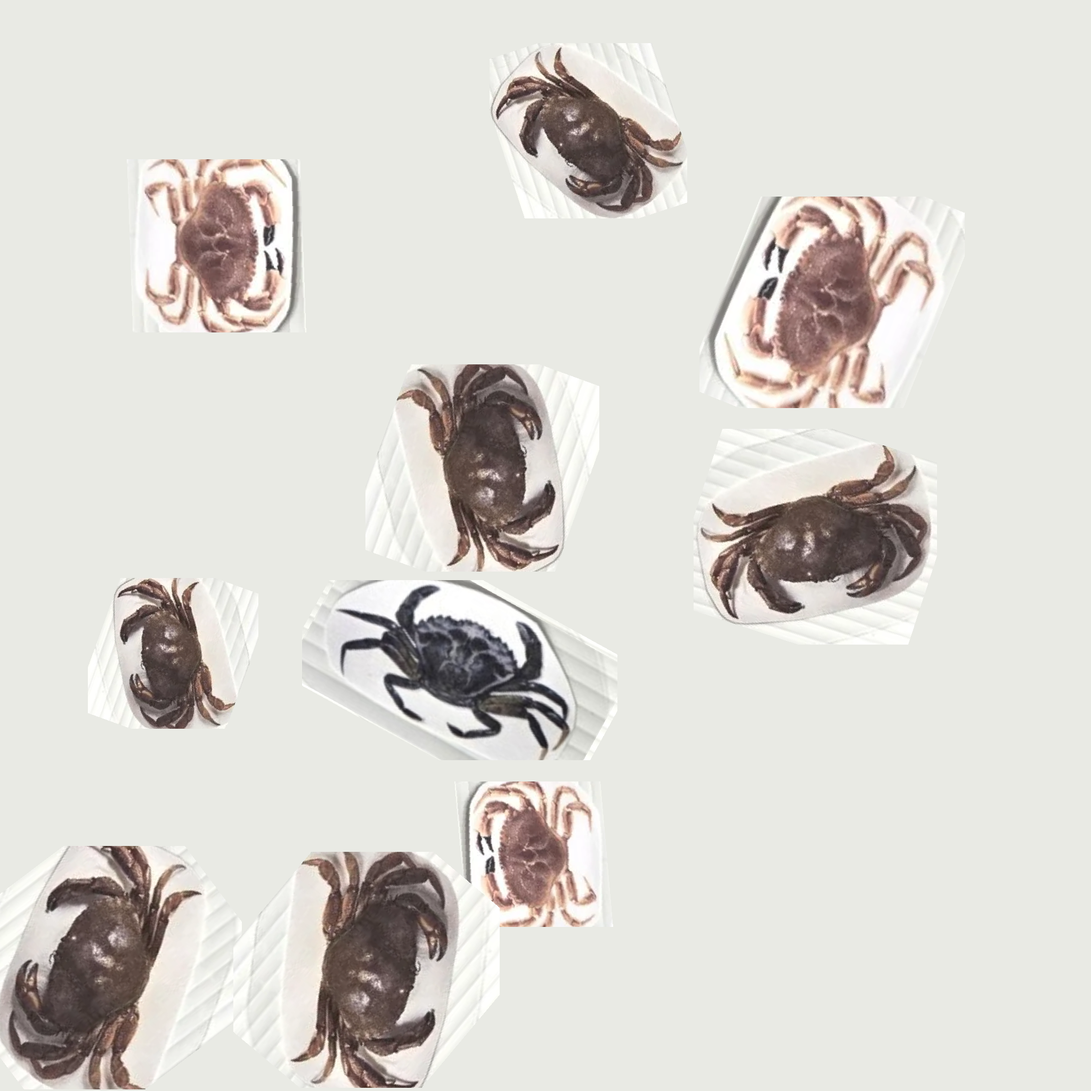evil: (325, 583, 572, 763)
normal: (247, 881, 510, 1063), (381, 328, 589, 555), (721, 412, 931, 628), (735, 208, 923, 407), (34, 833, 194, 1041), (519, 45, 696, 227), (137, 149, 314, 328), (95, 550, 258, 735), (471, 766, 606, 937)
